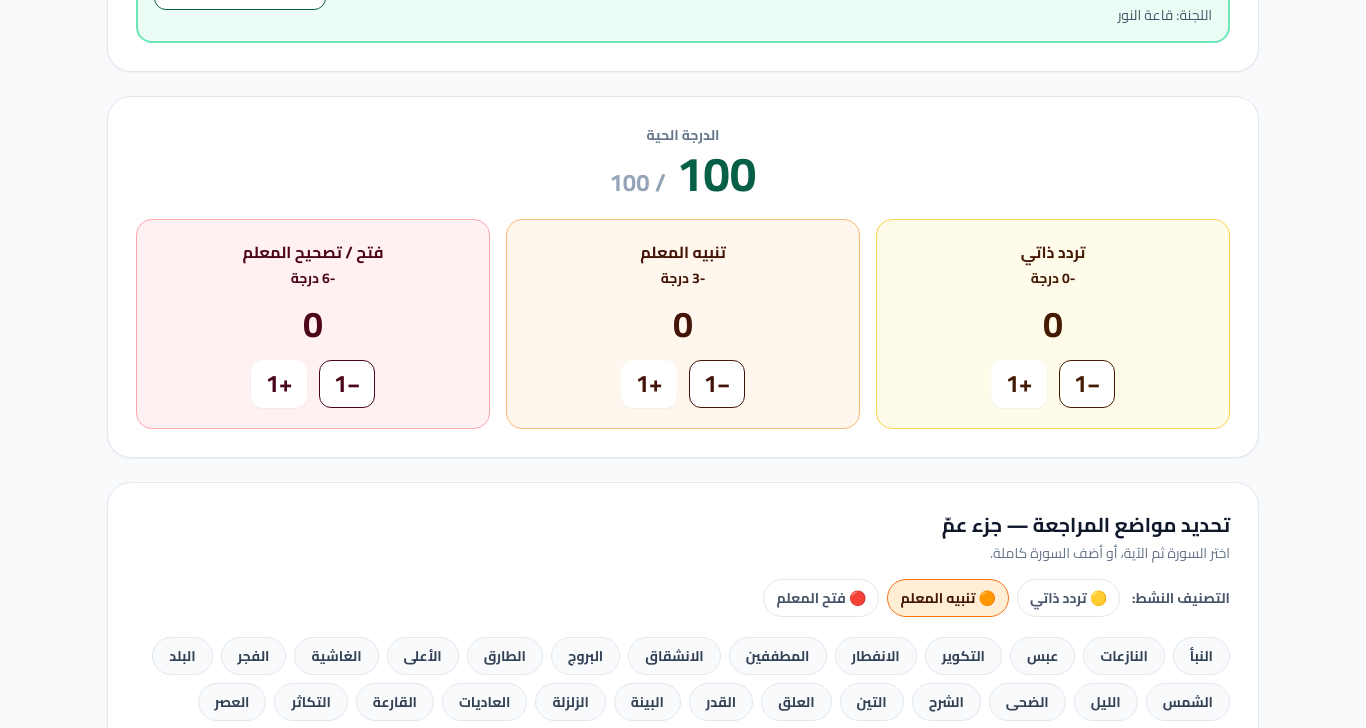
Test: sard evaluation keeps the active contestant and tags mistakes with the last counter category
The width and height of the screenshot is (1366, 728).
Earlier steps of the test are not shown.
(page scrolled)
What coordinates should you click on to do the following:
click the button named "إضافة تردد ذاتي"
I would click on:
 (1019, 384)
Its box is [991,360,1047,408].
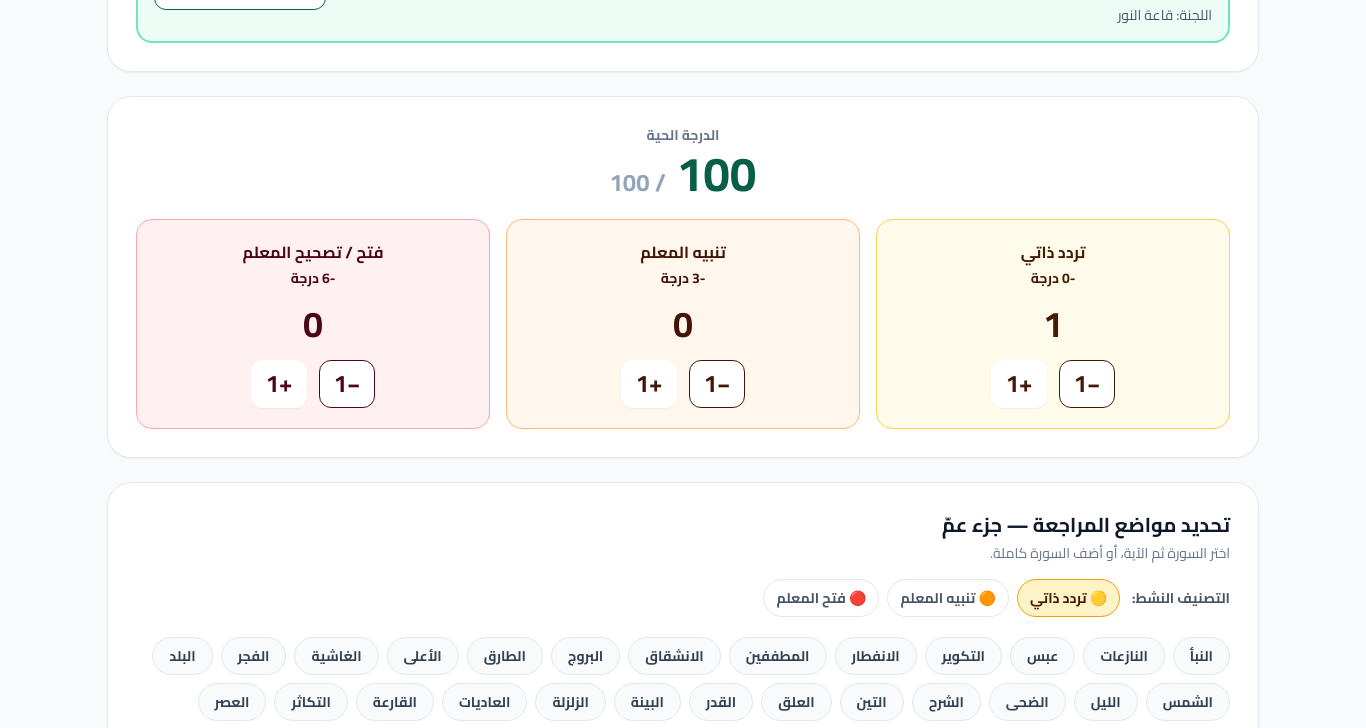
Expected: the button "🟡 تردد ذاتي" is pressed, [1017,579,1120,617]
What coordinates should you click on to do the following:
click the button "النبأ"
I would click on:
 (1201, 656)
Its box is [1173,637,1230,675].
(page scrolled)
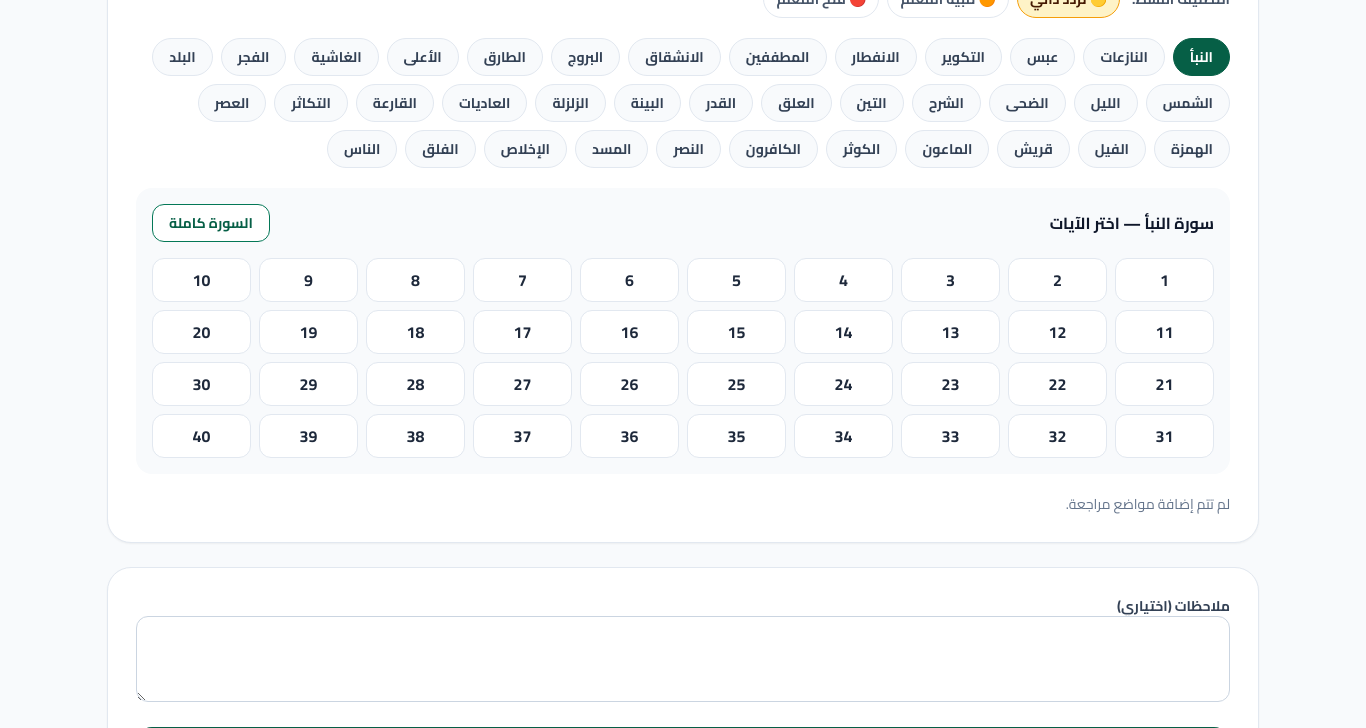
What coordinates should you click on to do the following:
click the button "25"
I would click on:
 (736, 384)
Its box is [687,362,786,406].
(page scrolled)
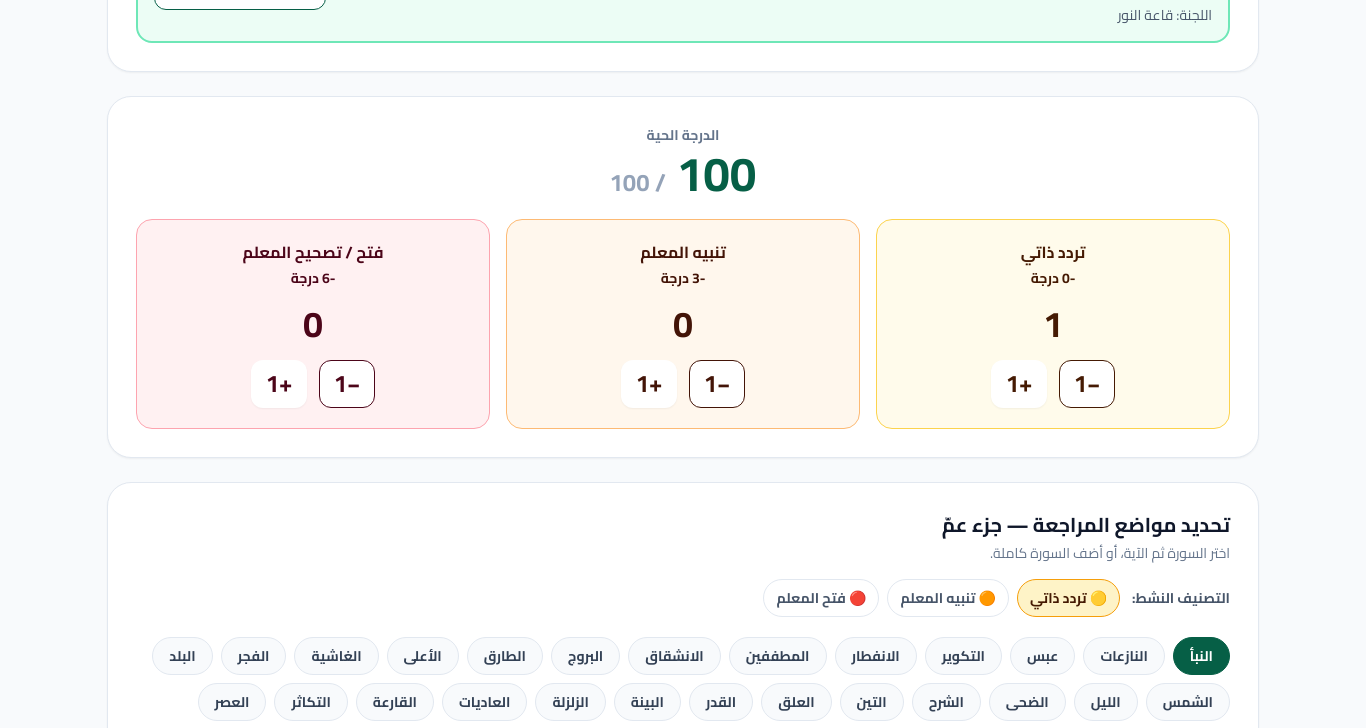
What coordinates should you click on to do the following:
click the button named "إضافة فتح / تصحيح المعلم"
I would click on:
 (279, 384)
Its box is [251,360,307,408].
(page scrolled)
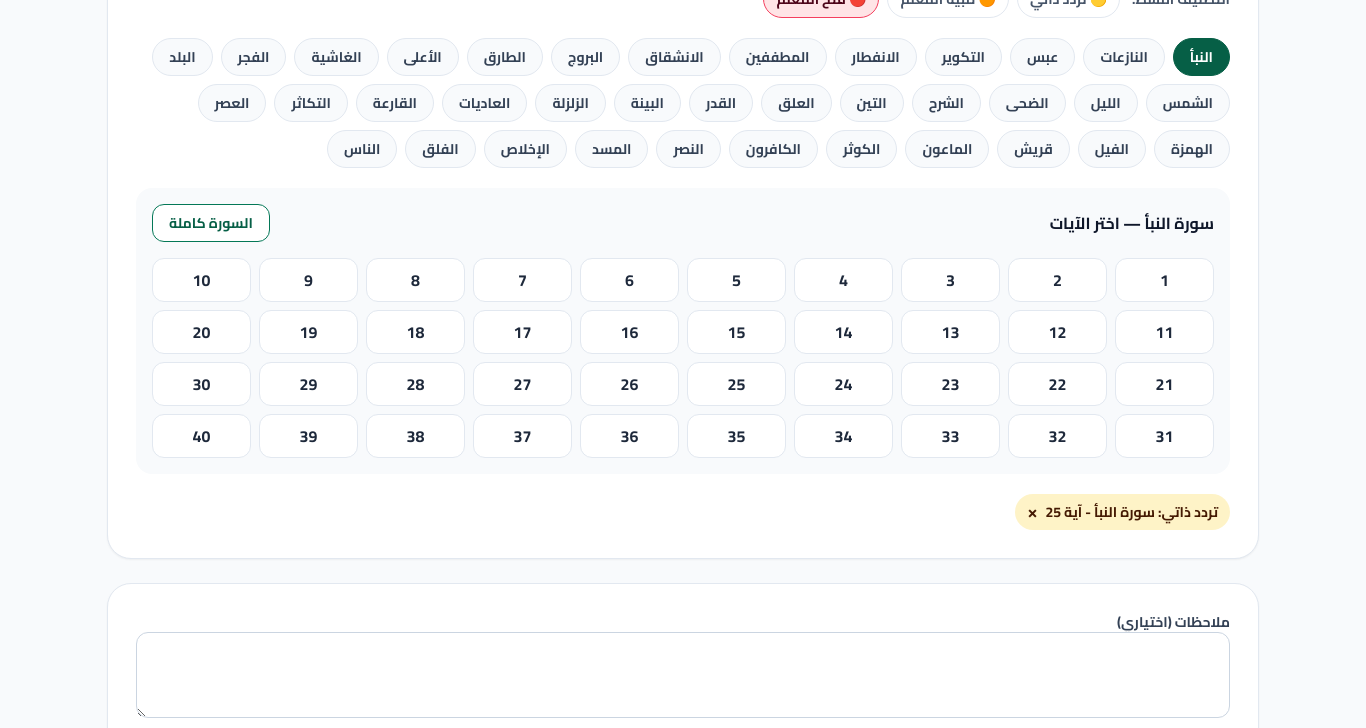
What coordinates should you click on to do the following:
click the button "26"
I would click on:
 (630, 384)
Its box is [580,362,679,406].
(page scrolled)
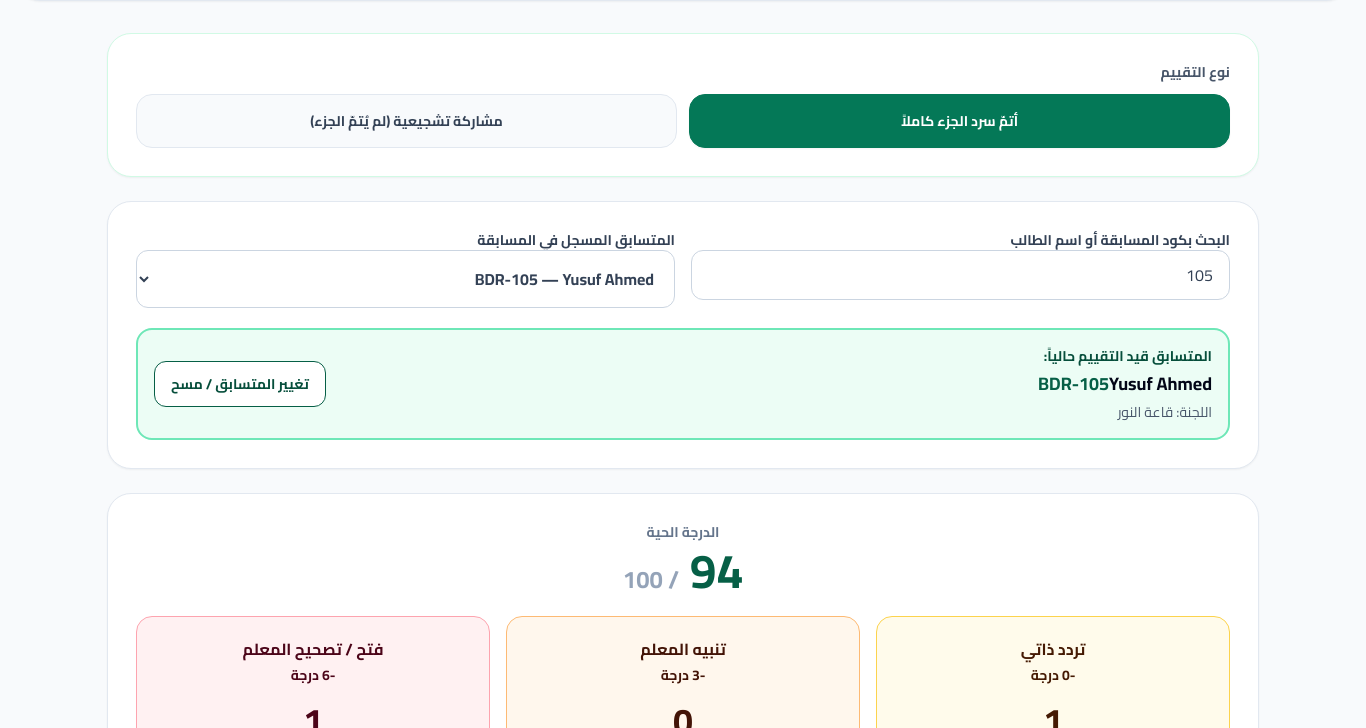
What coordinates should you click on to do the following:
click the button "تغيير المتسابق / مسح"
I would click on:
 (240, 384)
Its box is [154,361,326,407].
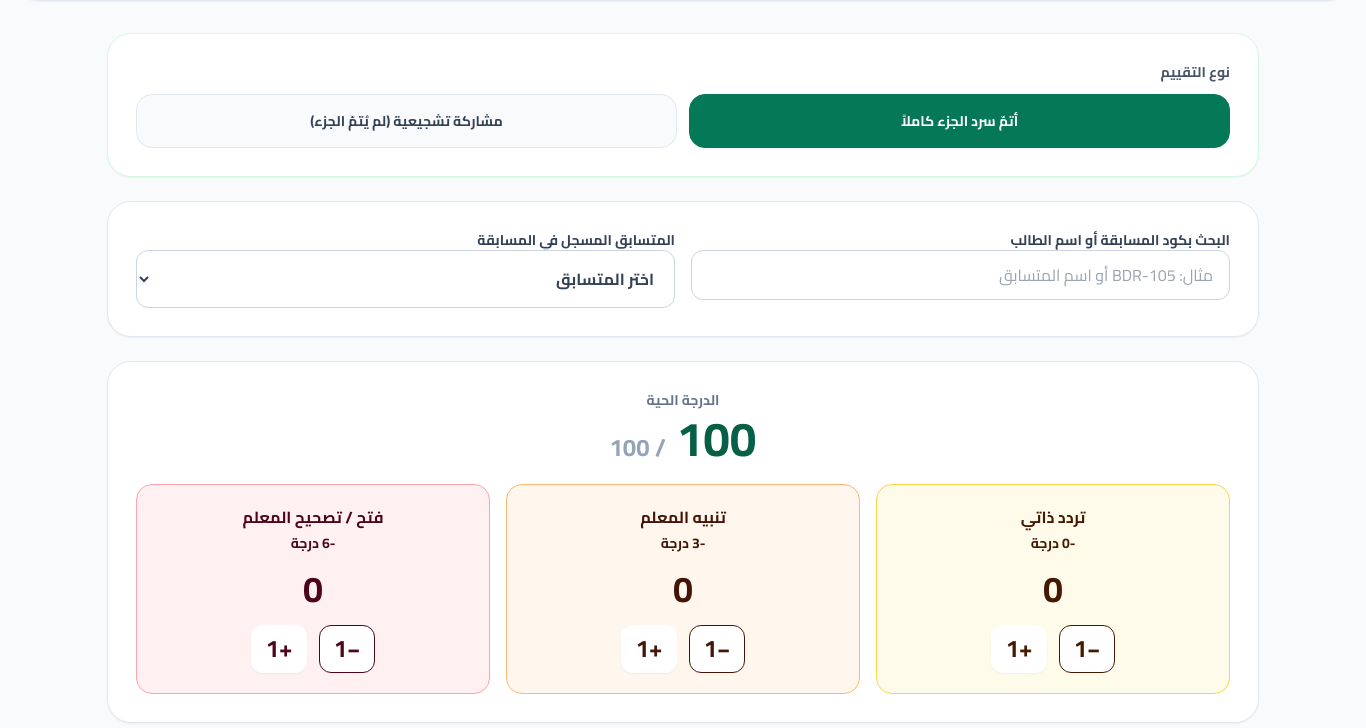
Expected: the text "تردد ذاتي: سورة النبأ - آية 25" is not shown
Expected: the text "المتسابق قيد التقييم حالياً:" is gone
